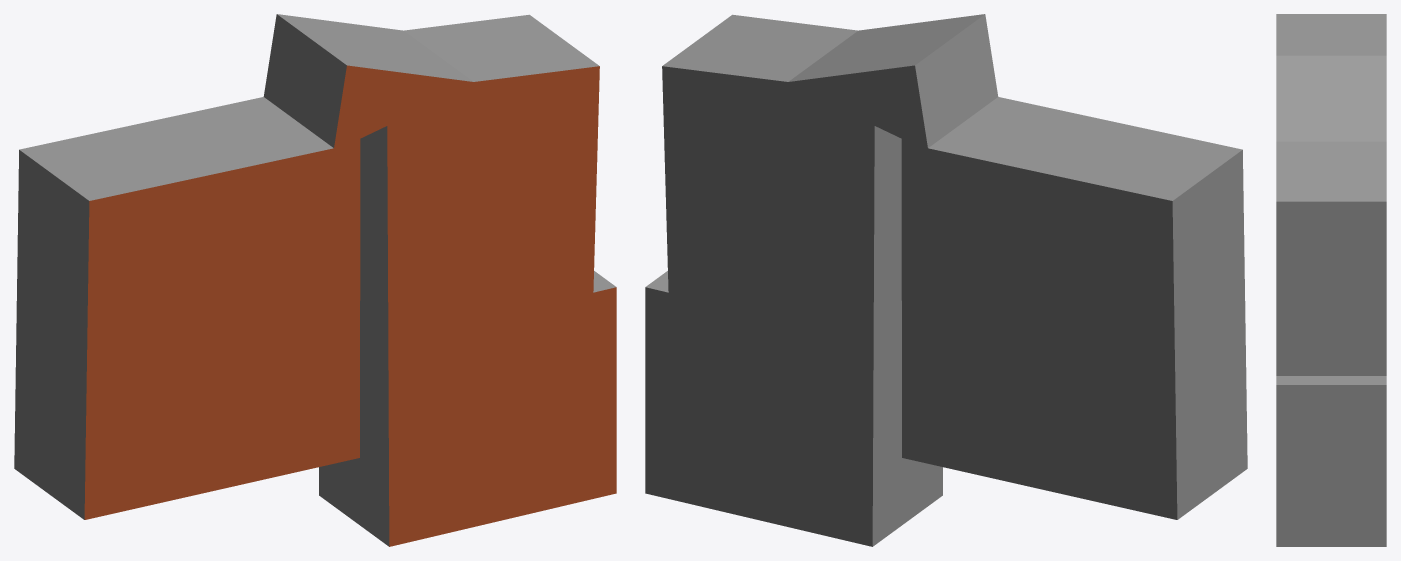
File: construction_3931_assumed_A_Casa_h6m.obj
3 renders of one model, left to right at view 1: azimuth 30°, elevation 25°; view 2: azimuth 150°, elevation 25°; view 3: azimuth 270°, elevation 25°, orthographic. The views are drawn at different scales.
Visible parts, largest first — view 1: construction_3931_assumed_A_Casa; view 2: construction_3931_assumed_A_Casa; view 3: construction_3931_assumed_A_Casa.
Boxes of the visible parts, <box> form: construction_3931_assumed_A_Casa: <box>14,14,616,546</box>; construction_3931_assumed_A_Casa: <box>645,14,1247,546</box>; construction_3931_assumed_A_Casa: <box>1276,14,1386,546</box>.
Bounding box in the file's own units: 26.23 × 23.26 × 6.
